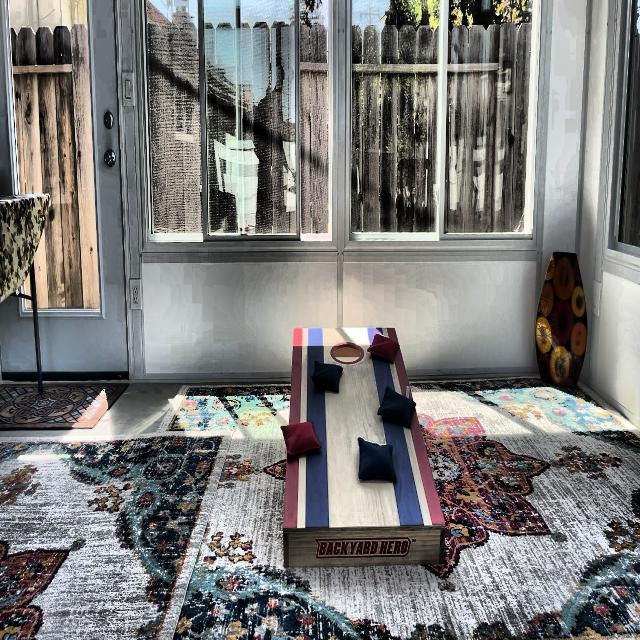blue-bean-bag: (358, 437, 397, 484), (378, 385, 416, 430), (312, 358, 343, 393)
board: (290, 326, 409, 528)
hole: (330, 341, 364, 365)
red-bean-bag: (281, 420, 322, 457), (368, 331, 400, 363)
